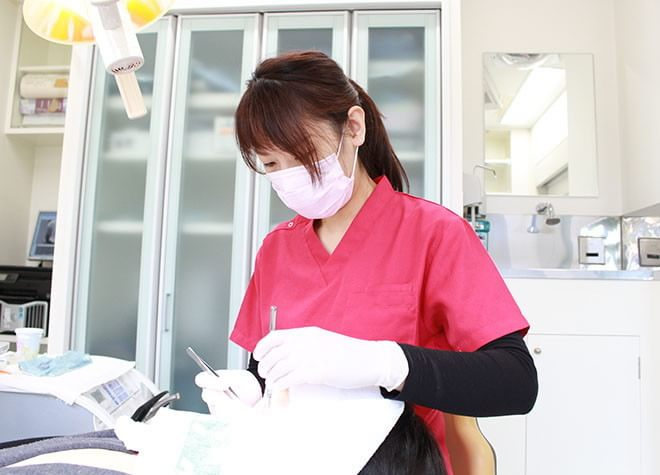mask: (265, 154, 356, 222)
